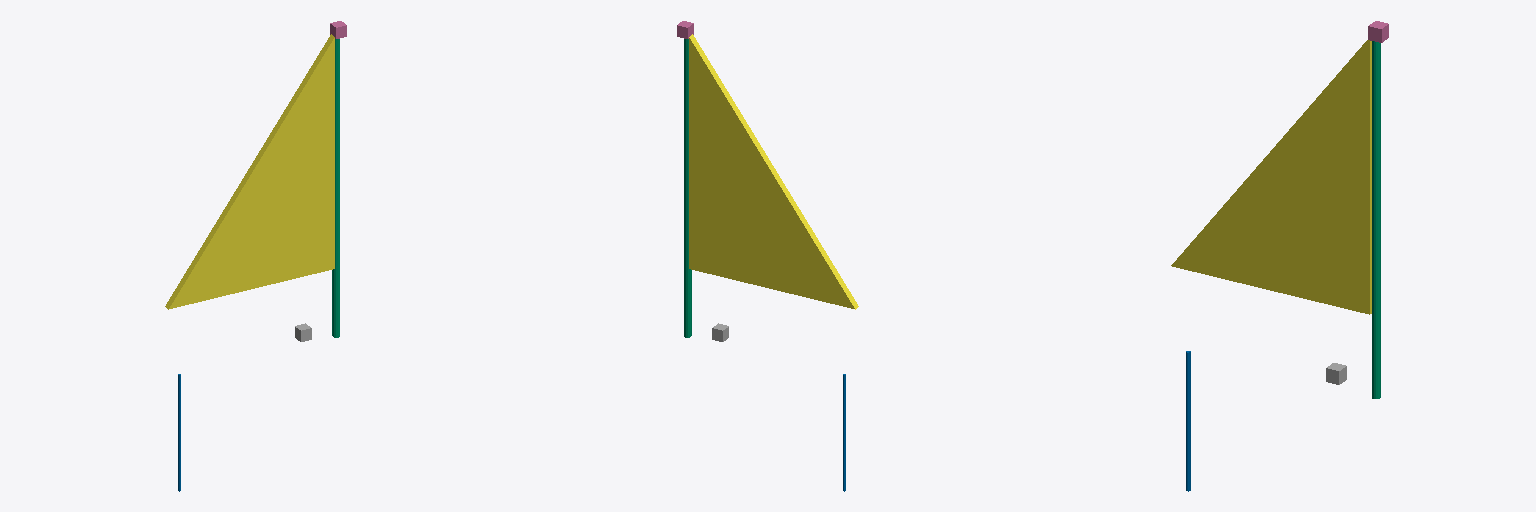
robot.urdf — sailboat:
<?xml version="1.0"?>
<robot name="sailboat">

<!-- LINKS -->
<!-- Based on format described in: https://classic.gazebosim.org/tutorials?tut=ros_urdf  -->
<!-- Inertial and origin values where taken from the Fusion360 model. -->
  <link name="dummy_link">
  </link>

<!-- Hull (Material: CFRP) -->
  <link name="base_link">
    <inertial>
      <origin xyz="0.8343461090897695 1.8476860883908343e-05 0.4324897304587565" rpy="0 0 0"/>
      <mass value="204.1612"/>
      <inertia ixx="6.489236" ixy="-0.002075" ixz="0.793396" iyy="43.15021" iyz="-0.000481" izz="47.153377"/>
    </inertial>
    <visual>
      <geometry>
        <mesh filename="package://sailboat_description/meshes/hull.dae"/>
      </geometry>
      <origin xyz="0 0 0" rpy="0 0 0"/>
    </visual>
    <collision>
      <geometry>
        <mesh filename="package://sailboat_description/meshes/hull.dae"/>
      </geometry>
      <origin xyz="0 0 0" rpy="0 0 0"/>
    </collision>
  </link>

<!-- Mast (Material: Aluminum) -->
  <link name="mast_link">
    <inertial>
      <origin xyz="2.220446049250313e-16 -1.4210854715202004e-16 0.6499999999999995" rpy="0 0 0"/>
      <mass value="2.481072798172541"/>
      <inertia ixx="0.349557" ixy="0.0" ixz="0.0" iyy="0.349557" iyz="0.0" izz="0.000279"/>
    </inertial>
    <visual>
      <geometry>
        <mesh filename="package://sailboat_description/meshes/mast.dae"/>
      </geometry>
      <origin xyz="-0.957 -0.0 -0.5" rpy="0 0 0"/>
    </visual>
    <collision>
      <geometry>
        <mesh filename="package://sailboat_description/meshes/mast.dae"/>
      </geometry>
      <origin xyz="-0.957 -0.0 -0.5" rpy="0 0 0"/>
    </collision>
  </link>

<!-- Sail (Material: CFRP) -->
  <link name="sail_link">
    <inertial>
      <origin xyz="-1.6151059999999993 0.4579510000000002 0.10333333333333306" rpy="0 0 0"/>
      <mass value="1.7099999999999986"/>
      <inertia ixx="0.095128" iyy="0.148438" izz="0.053566" ixy="0.0" iyz="-0.0" ixz="-0.035625"/>
    </inertial>
    <visual>
      <geometry>
        <mesh filename="package://sailboat_description/meshes/fabric.stl"/>
      </geometry>
      <origin xyz="-2.307106 0.457951 -1.03" rpy="0 0 0"/>
    </visual>
    <collision>
      <geometry>
        <mesh filename="package://sailboat_description/meshes/fabric.stl"/>
      </geometry>
      <origin xyz="-2.307106 0.457951 -1.03" rpy="0 0 0"/>
    </collision>
  </link>

<!-- Pole (Material: Aluminum) -->
  <link name="pole_link">
    <inertial>
      <origin xyz="-2.7755575615628914e-17 0.0 -0.25" rpy="0 0 0"/>  
      <mass value="0.23856469213197484"/>
      <inertia ixx="0.004973" ixy="0.0" ixz="0.0" iyy="0.004973" iyz="0.0" izz="7e-06"/>
    </inertial>
    <visual>  
      <geometry>
        <mesh filename="package://sailboat_description/meshes/pole.dae"/>
      </geometry>
      <origin xyz="-0.25 -0.0 -0.5" rpy="0 0 0"/>
    </visual>
    <collision>
      <geometry>
        <mesh filename="package://sailboat_description/meshes/pole.dae"/>
        <origin xyz="-0.25 -0.0 -0.5" rpy="0 0 0"/>
      </geometry>
    </collision>
  </link>

<!-- Rudder (Material:CFRP) -->
  <link name="rudder_link">
    <inertial>
      <origin xyz="-0.0571587336123294 4.414970727608667e-17 0.1500000000000002" rpy="0 0 0"/>  
      <mass value="1.3349130842340802"/>
      <inertia ixx="0.010058" ixy="0.0" ixz="0.0" iyy="0.012892" iyz="0.0" izz="0.002925"/>
    </inertial>
    <visual>
      <geometry>
        <mesh filename="package://sailboat_description/meshes/rudder.dae"/>
      </geometry>
      <origin xyz="-0.25 -0.0 -0.0" rpy="0 0 0"/>
    </visual>
    <collision>
      <geometry>
        <mesh filename="package://sailboat_description/meshes/rudder.dae"/>
      </geometry>
      <origin xyz="-0.25 -0.0 -0.0" rpy="0 0 0"/>
    </collision>
  </link>

<!-- Camera link -->
  <link name="camera_link">
    <collision>
      <origin xyz="0.00999 0.0 0.0182"/>
      <geometry>
        <box size="0.05 0.05 0.05"/>
      </geometry>
    </collision>
    <visual>
      <origin xyz="0.00999 0.0 0.0182" rpy="0.0 0.0 0.0"/>
      <geometry>
        <box size="0.05 0.05 0.05"/>
      </geometry>
      <material name="black"/>
    </visual>
    <inertial>
      <mass value="1e-5" />
      <origin xyz="0.00999 0 0.0182" rpy="0.0 0.0 0.0"/>
      <inertia ixx="1e-6" ixy="0" ixz="0" iyy="1e-6" iyz="0" izz="1e-6" />
    </inertial>
  </link>

<!-- IMU link -->
  <link name="imu_link">
    <collision>
      <origin xyz="0.00800 0.0 0.05"/>
      <geometry>
        <box size="0.05 0.05 0.05"/>
      </geometry>
    </collision>
    <visual>
      <origin xyz="0.00800 0.0 0.05" rpy="0.0 0.0 0.0"/>
      <geometry>
        <box size="0.05 0.05 0.05"/>
      </geometry>
      <material name="black"/>
    </visual>
    <inertial>
      <mass value="1e-5" />
      <origin xyz="0.00800 0.0 0.05" rpy="0.0 0.0 0.0"/>
      <inertia ixx="1e-6" ixy="0" ixz="0" iyy="1e-6" iyz="0" izz="1e-6" />
    </inertial>
  </link>

<!-- LINK MATERIALS -->
  <gazebo reference="base_link">
    <material>Gazebo/Blue</material>
  </gazebo>

  <gazebo reference="mast_link">
    <material>Gazebo/Gray</material>
  </gazebo>

  <gazebo reference="sail_link">
    <material>Gazebo/White</material>
  </gazebo>

  <gazebo reference="pole_link">
    <material>Gazebo/Gray</material>
  </gazebo>

  <gazebo reference="rudder_link">
    <material>Gazebo/White</material>
  </gazebo>

  <gazebo reference="camera_link">
    <material>Gazebo/Black</material>
  </gazebo>

  <gazebo reference="imu_link">
    <material>Gazebo/Black</material>
  </gazebo>

<!-- JOINTS -->
<!-- Based on format described in: http://wiki.ros.org/urdf/XML/joint -->
  <joint name="dummy_joint" type="fixed">
    <parent link="dummy_link"/>
    <child link="base_link"/>
  </joint>

  <joint name="base_mast_joint" type="revolute">
    <parent link="base_link"/>
    <child link="mast_link"/>
    <axis xyz="0.0 0.0 1.0"/>
    <origin xyz="0.957 0.0 0.5" rpy="0 0 0"/>
    <limit effort="1000.0" lower="-3.14" upper="3.14" velocity="0.5"/>
  </joint>

  <joint name="mast_sail_joint" type="fixed">
    <parent link="mast_link"/>
    <child link="sail_link"/>
    <origin xyz="1.350106 -0.457951 0.53" rpy="0 0 0"/>
  </joint>

  <joint name="base_pole_joint" type="revolute">
    <parent link="base_link"/>
    <child link="pole_link"/>
    <axis xyz="0.0 0.0 -1.0"/>
    <origin xyz="0.25 0.0 0.5" rpy="0.0 0.0 0.0"/>
    <limit effort="1000.0" lower="-3.14" upper="3.14" velocity="0.5"/>
  </joint>

  <joint name="pole_rudder_joint" type="fixed">
    <parent link="pole_link"/>
    <child link="rudder_link"/>
    <origin xyz="0.0 0.0 -0.5" rpy="0.0 0.0 0.0"/>
  </joint>

  <joint name="camera_joint" type="fixed">
    <axis xyz="0.0 1.0 0.0"/>
    <origin xyz="0.0 0.0 1.3"/>
    <parent link="mast_link"/>
    <child link="camera_link"/>
  </joint>

  <joint name="imu_joint" type="fixed">
    <axis xyz="1.0 0.0 0.0"/>
    <origin xyz="0.800 0.0 0.5"/>
    <parent link="base_link"/>
    <child link="imu_link"/>
  </joint>

<!-- TRANSMISSION ELEMENTS -->
<!-- Based on format described in: https://wiki.ros.org/urdf/XML/Transmission -->
  <transmission name="sail_trans">
    <type>transmission_interface/SimpleTransmission</type>
    <joint name="base_mast_joint">
      <hardwareInterface>hardware_interface/PositionJointInterface</hardwareInterface>
    </joint>
    <actuator name="mast_motor">
      <mechanicalReduction>1</mechanicalReduction>
    </actuator>
  </transmission>

  <transmission name="rudder_trans">
    <type>transmission_interface/SimpleTransmission</type>
    <joint name="base_pole_joint">
      <hardwareInterface>hardware_interface/PositionJointInterface</hardwareInterface>
    </joint>
    <actuator name="rudder_motor">
      <mechanicalReduction>1</mechanicalReduction>
    </actuator>
  </transmission>

<!-- SENSORS -->
<!-- Camera -->
  <gazebo reference="camera_link">
    <sensor type="camera" name="camera1">
      <update_rate>30.0</update_rate>
      <camera name="head">
        <horizontal_fov>1.3962634</horizontal_fov>
        <image>
          <width>1920</width>
          <height>1080</height>
          <format>R8G8B8</format>
        </image>
        <clip>
          <near>0.02</near>
          <far>300</far>
        </clip>
        <noise>
          <type>gaussian</type>
          <mean>0.0</mean>
          <stddev>0.007</stddev>
        </noise>
      </camera>
      <plugin name="camera_controller" filename="libgazebo_ros_camera.so">
        <alwaysOn>true</alwaysOn>
        <updateRate>0.0</updateRate>
        <cameraName>sailboat/camera</cameraName>
        <imageTopicName>image_raw</imageTopicName>
        <cameraInfoTopicName>camera_info</cameraInfoTopicName>
        <frameName>camera_link</frameName>
        <hackBaseline>0.07</hackBaseline>
        <distortionK1>0.0</distortionK1>
        <distortionK2>0.0</distortionK2>
        <distortionK3>0.0</distortionK3>
        <distortionT1>0.0</distortionT1>
        <distortionT2>0.0</distortionT2>
      </plugin>
    </sensor>
  </gazebo>

<!-- IMU -->
  <gazebo reference="imu_link">
    <gravity>true</gravity>
    <sensor name="imu_sensor" type="imu">
      <always_on>true</always_on>
      <update_rate>100</update_rate>
      <visualize>true</visualize>
      <topic>__default_topic__</topic>
      <plugin filename="libgazebo_ros_imu_sensor.so" name="imu_plugin">
        <topicName>imu</topicName>
        <bodyName>imu_link</bodyName>
        <updateRateHZ>10.0</updateRateHZ>
        <gaussianNoise>0.0</gaussianNoise>
        <xyzOffset>0 0 0</xyzOffset>
        <rpyOffset>0 0 0</rpyOffset>
        <frameName>imu_link</frameName>
        <initialOrientationAsReference>false</initialOrientationAsReference>
      </plugin>
      <pose>0 0 0 0 0 0</pose>
    </sensor>
  </gazebo>

<!-- PLUGINS -->
<!-- Plugin: gazebo_ros_control  -->
<!-- Based on format described in: https://github.com/ros-simulation/gazebo_ros_pkgs  -->
  <gazebo>
    <plugin name="gazebo_ros_control" filename="libgazebo_ros_control.so">
      <robotNamespace>/sailboat</robotNamespace>
    </plugin>
  </gazebo>
<!-- Plugin: usv_gazebo_dynamics_plugin  -->
<!-- Based on format described in: http://wiki.ros.org/usv_gazebo_plugins -->
  <gazebo>
    <plugin filename="libusv_gazebo_dynamics_plugin.so" name="usv_dynamics_wamv_dynamics_plugin">
      <bodyName>base_link</bodyName>
      <waterLevel>-0.2</waterLevel>
      <waterDensity>997.8</waterDensity>
<!-- Added mass (default values) -->
      <xDotU>0.0</xDotU>
      <yDotV>0.0</yDotV>
      <nDotR>0.0</nDotR>
<!-- Linear and quadratic drag (default values) -->
      <xU>76.3</xU>
      <xUU>92.4</xUU>
      <yV>65.0</yV>
      <yVV>0.0</yVV>
      <zW>650.0</zW>
      <kP>75.0</kP>
      <mQ>75.0</mQ>
      <nR>550.0</nR>
      <nRR>0.0</nRR>
<!-- General dimensions (hull radius pending) -->
      <boatArea>3.674</boatArea>
      <hullRadius>0.213</hullRadius>
      <boatWidth>0.63</boatWidth>
      <boatLength>2.001</boatLength>
<!-- Length discretization, AKA, "N" -->
      <length_n>2</length_n>
      <wave_model>ocean_waves</wave_model>
    </plugin>
  </gazebo>
<!--Plugin: usv_gazebo_wind_plugin -->
  <gazebo>
    <plugin filename="libusv_gazebo_wind_plugin.so" name="wind">
<!-- models to be effected by the wind -->
      <wind_obj>
        <name>sailboat</name>
        <link_name>base_link</link_name>
        <coeff_vector>0.5 0.5 0.33</coeff_vector>
      </wind_obj>
<!-- Wind -->
      <wind_direction>270</wind_direction>
<!-- in degrees -->
      <wind_mean_velocity>10</wind_mean_velocity>
      <var_wind_gain_constants>100</var_wind_gain_constants>
      <var_wind_time_constants>5</var_wind_time_constants>
      <random_seed></random_seed>
<!-- set to zero/empty to randomize -->
      <update_rate>-1</update_rate>
    </plugin>
  </gazebo>
</robot>

--- What the picture shows (computed from the rendered views, not written in the file) ---
3 views of the same robot in one strip: view 1: azimuth 30°, elevation 25°; view 2: azimuth 150°, elevation 25°; view 3: azimuth 330°, elevation 25° (orthographic).
Model sailboat with 8 links and 7 joints (2 revolute, 5 fixed), rooted at dummy_link, posed all joints at 0.
Links seen in each view (by area): view 1: sail_link, mast_link; view 2: sail_link, mast_link; view 3: sail_link, mast_link, pole_link.
Boxes of the visible links, x1,y1,x2,y2 form: sail_link: [165, 34, 334, 309]; mast_link: [332, 39, 339, 337]; sail_link: [689, 34, 858, 309]; mast_link: [684, 39, 691, 337]; sail_link: [1171, 40, 1371, 314]; mast_link: [1372, 41, 1380, 398]; pole_link: [1186, 351, 1190, 491].
Size in the robot's own frame: 0.8 by 0.05 by 1.84 metres.
3 mesh visuals loaded from 5 distinct referenced files (1 binary STL, 2 Collada DAE); not drawn: 2 (reference not matched to a file when rendering).
